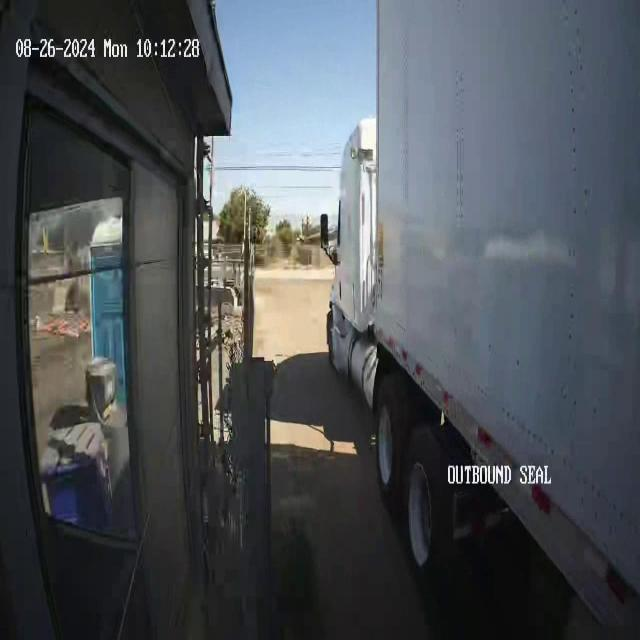TRUCK_OUT: (324, 1, 639, 628)
